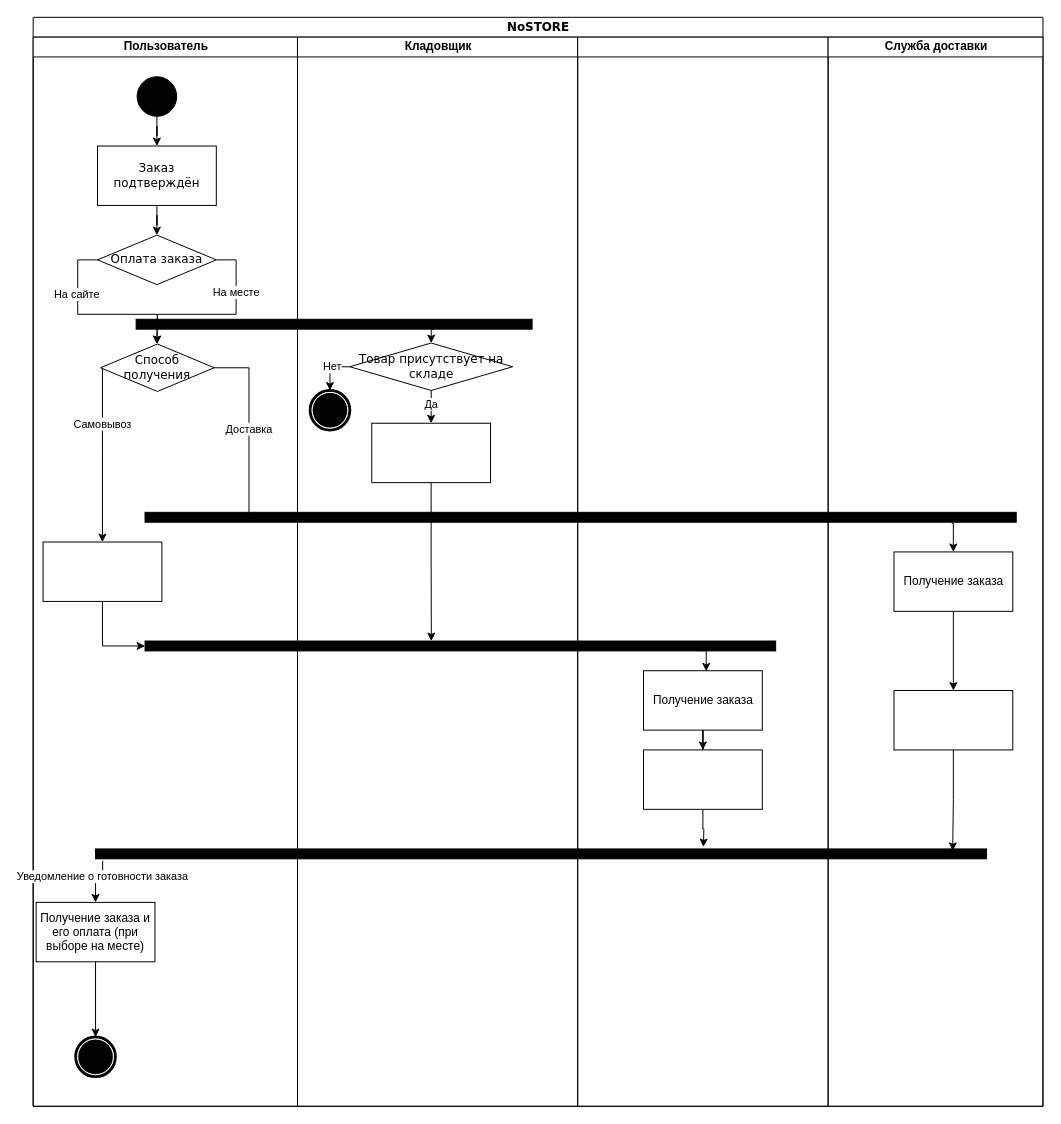
This 1061x1124 diagram has some shape labels left out. Each missing label, with the box of its shape:
Выбор места: (42, 541, 162, 601)
Доставка к клиенту: (893, 690, 1013, 750)
Ожидание клиента: (643, 749, 762, 809)
Сборка и передача заказа: (371, 422, 491, 483)
Сотрудник: (577, 36, 828, 1106)
